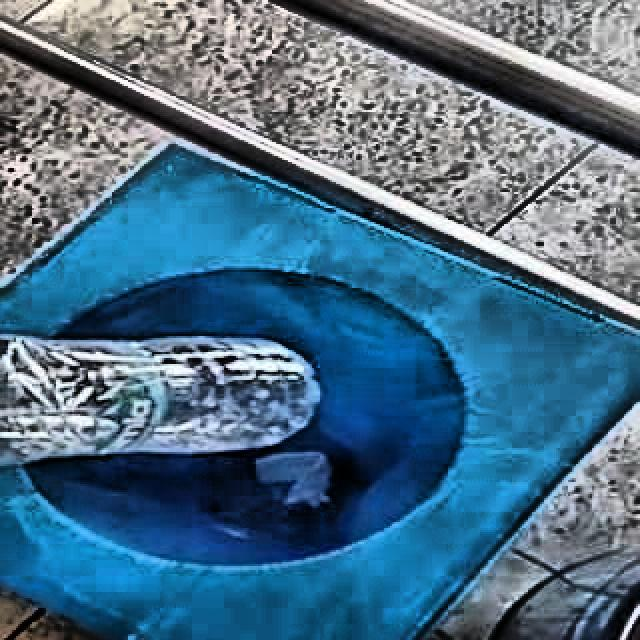plastic: (0, 336, 320, 467)
